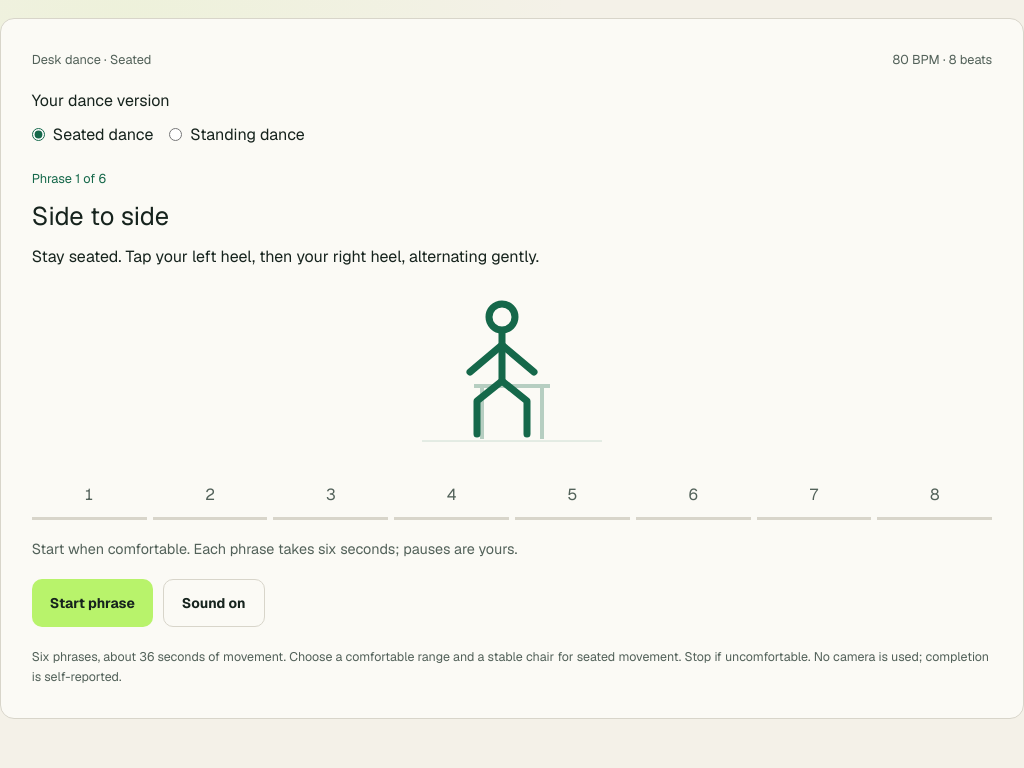
Test case: Desk dance › falls back to visual beats if audio is unavailable
Click the button "Sound on" at point(214, 603), box x1=163 y1=579 x2=264 y2=627
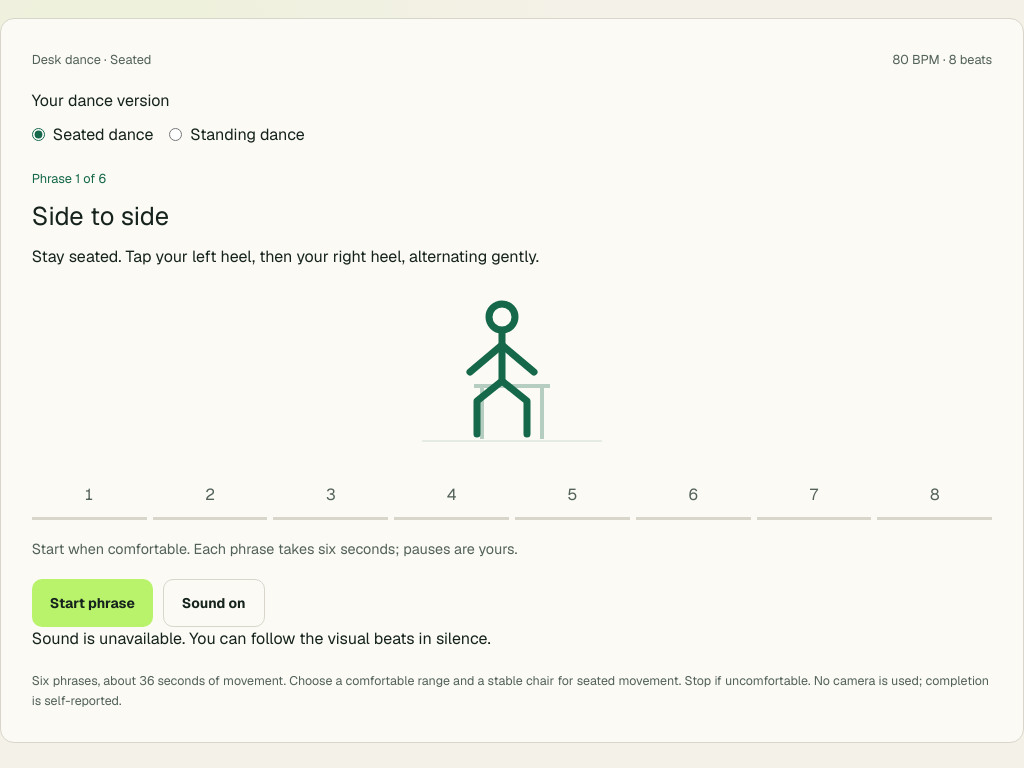
Expected: the text "Sound is unavailable. You can follow the visual beats in silence." is shown, x1=32 y1=628 x2=491 y2=649
Click the button "Start phrase" at point(92, 603), box x1=32 y1=579 x2=153 y2=627
Wait 6000 ms
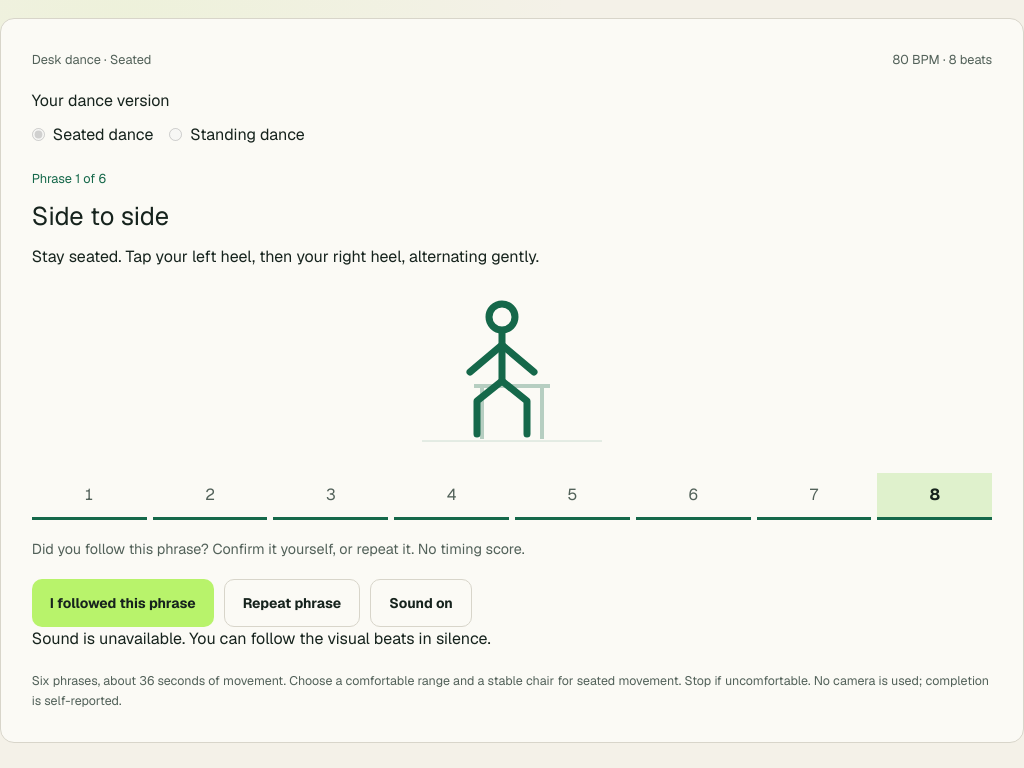
Expected: the button "I followed this phrase" is shown, x1=32 y1=579 x2=214 y2=627
